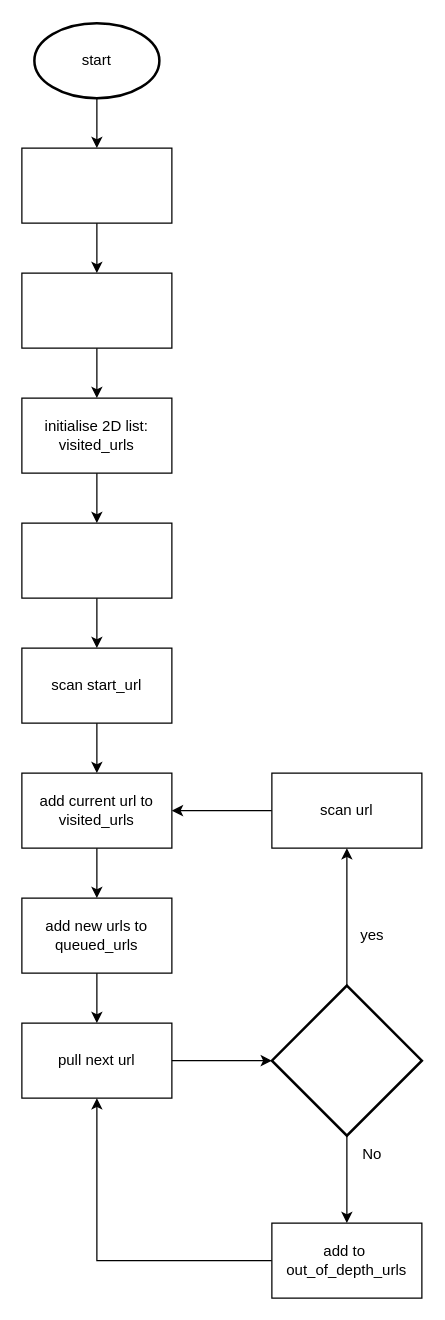
Some shapes in this 445 by 1320 pixel diagram are drawn without their labels. Here are the shapes that lost their labels. From the top down, the box of each, then its label:
(21, 147, 172, 223): set current_depth = 0 set max_depth = (user input)
(21, 272, 172, 348): initialise 3D list: queued_urls
(21, 522, 172, 598): initialise 2D list: out_of_depth_urls
(270, 984, 422, 1136): current_depth <= max_depth
